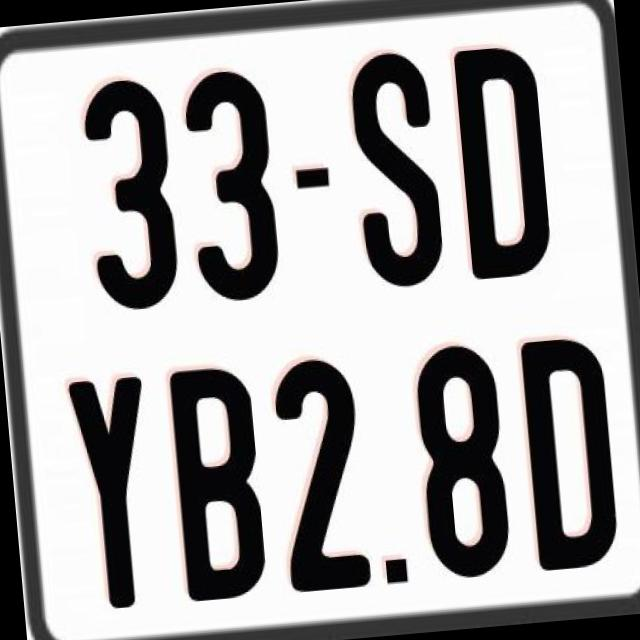2: (270, 356, 374, 596)
3: (81, 77, 181, 317), (182, 65, 282, 303)
8: (410, 336, 518, 584)
B: (166, 362, 274, 608)
D: (452, 41, 558, 282), (520, 332, 620, 577)
S: (347, 44, 446, 284)
Y: (65, 372, 159, 612)
